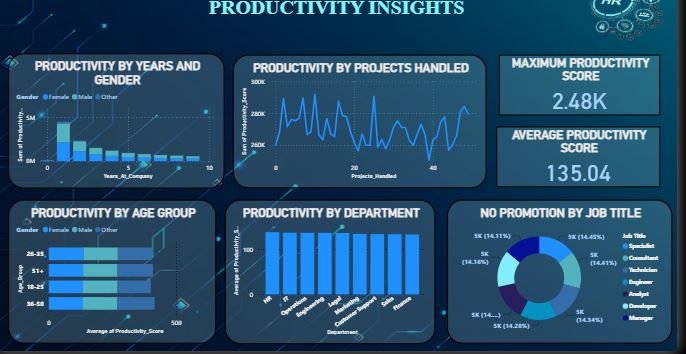

The page's visual inventory and layout, read from the dashboard file:
{"tool":"powerbi","page":{"name":"Productivity","canvas":[1280,720],"ordinal":2},"visuals":[{"type":"clusteredColumnChart","title":"PRODUCTIVITY BY DEPARTMENT","fields":{"Category":["cleaned_HR_analytics.Department"],"Y":["Avg(cleaned_HR_analytics.Productivity_Score)"]},"box":[430.2,434.7,396.3,272.1],"z":0},{"type":"barChart","title":"PRODUCTIVITY BY AGE GROUP","fields":{"Category":["cleaned_HR_analytics.Age_Group"],"Series":["cleaned_HR_analytics.Gender"],"Y":["Avg(cleaned_HR_analytics.Productivity_Score)"]},"box":[22.8,434.8,391.6,271.5],"z":1000},{"type":"columnChart","title":"PRODUCTIVITY BY YEARS AND GENDER","fields":{"Category":["cleaned_HR_analytics.Years_At_Company"],"Y":["Sum(cleaned_HR_analytics.Productivity_Score)"],"Series":["cleaned_HR_analytics.Gender"]},"box":[22.9,160.5,407.8,254.6],"z":2000},{"type":"donutChart","title":"NO PROMOTION BY JOB TITLE","fields":{"Y":["cleaned_HR_analytics.High Productivity No Promo"],"Category":["cleaned_HR_analytics.Job_Title"]},"box":[846.9,434.8,424,271.5],"z":3000},{"type":"image","box":[988,0,292.5,143.4],"z":4000},{"type":"textbox","box":[394.1,47.4,492.3,62.1],"z":5000},{"type":"lineChart","title":"PRODUCTIVITY BY PROJECTS HANDLED","fields":{"Category":["cleaned_HR_analytics.Projects_Handled"],"Y":["Sum(cleaned_HR_analytics.Productivity_Score)"]},"box":[443.8,163.7,477.6,251.8],"z":6000},{"type":"card","title":"AVERAGE PRODUCTIVITY SCORE","fields":{"Values":["Avg(cleaned_HR_analytics.Productivity_Score)"]},"box":[939.3,297.9,308.7,115.3],"z":7000},{"type":"card","title":"MAXIMUM PRODUCTIVITY SCORE","fields":{"Values":["Max(cleaned_HR_analytics.Productivity_Score)"]},"box":[944.1,163.4,303.9,115.3],"z":8000}]}

Visuals, with their boxes on the page's 1280x720 design canvas (x1, y1, x2, y2). These are canvas units, not pixel positions in the 686x354 screenshot, which may show the page scaled, cropped or inside an application window:
"PRODUCTIVITY BY DEPARTMENT" clusteredColumnChart: x1=430, y1=435, x2=826, y2=707
"PRODUCTIVITY BY AGE GROUP" barChart: x1=23, y1=435, x2=414, y2=706
"PRODUCTIVITY BY YEARS AND GENDER" columnChart: x1=23, y1=160, x2=431, y2=415
"NO PROMOTION BY JOB TITLE" donutChart: x1=847, y1=435, x2=1271, y2=706
image: x1=988, y1=0, x2=1280, y2=143
textbox: x1=394, y1=47, x2=886, y2=110
"PRODUCTIVITY BY PROJECTS HANDLED" lineChart: x1=444, y1=164, x2=921, y2=416
"AVERAGE PRODUCTIVITY SCORE" card: x1=939, y1=298, x2=1248, y2=413
"MAXIMUM PRODUCTIVITY SCORE" card: x1=944, y1=163, x2=1248, y2=279
